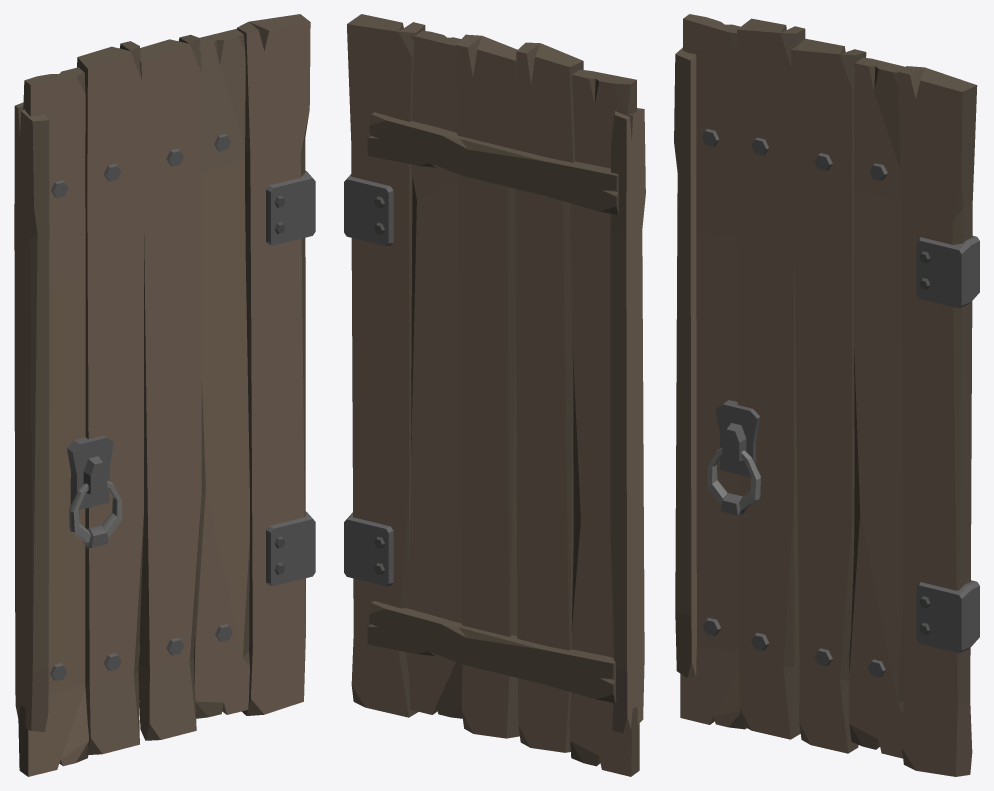
The model's file is SM_Env_DoorDouble_Flat_02.FBX.
The picture shows the model from 3 angles, left to right: view 1: azimuth 30°, elevation 25°; view 2: azimuth 150°, elevation 25°; view 3: azimuth 330°, elevation 25°; orthographic projection.
Visible parts, largest first — view 1: SM_Env_DoorDouble_Flat_02; view 2: SM_Env_DoorDouble_Flat_02; view 3: SM_Env_DoorDouble_Flat_02.
Part boxes in pixels (box(x1,y1,x2,y2)): SM_Env_DoorDouble_Flat_02: box(14, 14, 315, 776); SM_Env_DoorDouble_Flat_02: box(344, 14, 645, 776); SM_Env_DoorDouble_Flat_02: box(674, 14, 979, 776).
Size of what is drawn, in the model's own units: 112 by 18.49 by 265.
